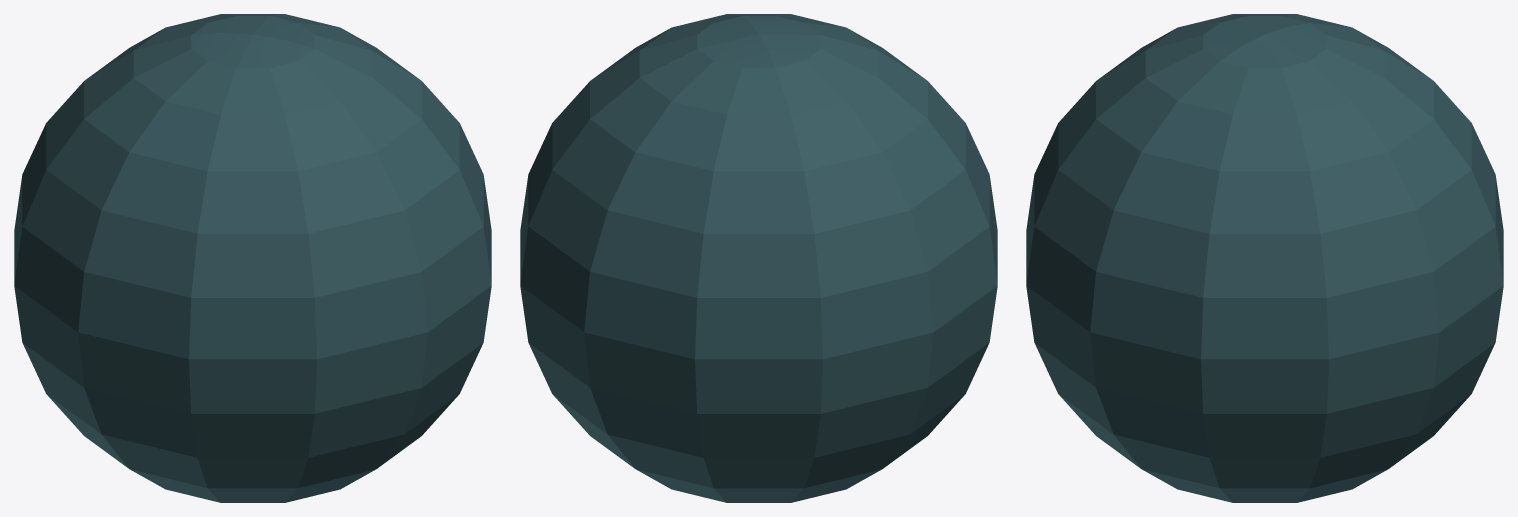
File: Place_Holder_1.fbx
3 renders of one model, left to right at view 1: azimuth 30°, elevation 25°; view 2: azimuth 150°, elevation 25°; view 3: azimuth 270°, elevation 25°, orthographic.
Visible parts, largest first — view 1: Shutter_4, Base, Shutter_1, Shutter_3, Shutter_2; view 2: Shutter_2, Base, Shutter_1, Shutter_3, Shutter_4; view 3: Shutter_3, Base, Shutter_2, Shutter_4, Shutter_1.
Part boxes in pixels (bbox=[...]): Shutter_4: bbox=[189, 34, 491, 359]; Base: bbox=[14, 286, 491, 502]; Shutter_1: bbox=[14, 33, 252, 359]; Shutter_3: bbox=[253, 14, 491, 282]; Shutter_2: bbox=[86, 14, 283, 79]; Shutter_2: bbox=[520, 34, 822, 359]; Base: bbox=[520, 286, 997, 502]; Shutter_1: bbox=[759, 34, 997, 359]; Shutter_3: bbox=[520, 14, 758, 282]; Shutter_4: bbox=[728, 14, 925, 79]; Shutter_3: bbox=[1090, 34, 1439, 359]; Base: bbox=[1026, 286, 1503, 502]; Shutter_2: bbox=[1265, 23, 1503, 331]; Shutter_4: bbox=[1026, 23, 1264, 331]; Shutter_1: bbox=[1179, 14, 1350, 34].
Bounding box in the file's own units: 1.93 × 2 × 1.93.
